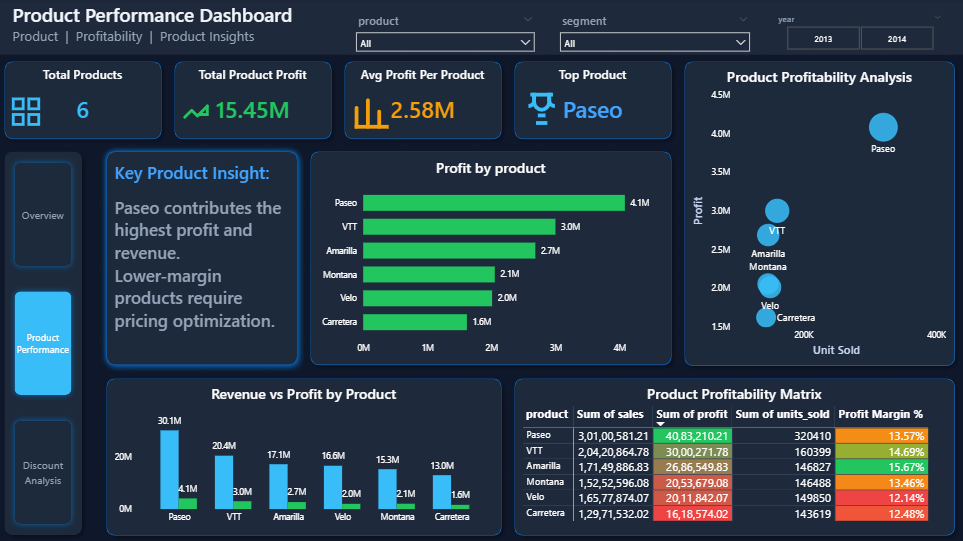

Layout of this report page (visuals, bound fields, positions):
{"tool":"powerbi","page":{"name":"Product Performance","canvas":[1366,768],"ordinal":1},"visuals":[{"type":"shape","box":[960,80,400,448],"z":0},{"type":"shape","box":[0,208,128,560],"z":1000},{"type":"shape","box":[720,528,640,240],"z":2000},{"type":"shape","box":[432,208,528,320],"z":3000},{"type":"shape","box":[144,528,576,240],"z":4000},{"type":"shape","box":[720,80,240,128],"z":5000},{"type":"shape","box":[480,80,240,128],"z":6000},{"type":"shape","box":[240,80,240,128],"z":7000},{"type":"shape","box":[0,80,240,128],"z":8000},{"type":"shape","box":[0,0,1408,80],"z":9000},{"type":"textbox","box":[16,0,448,71],"z":10000},{"type":"pageNavigator","box":[16,224,96,528],"z":11000},{"type":"cardVisual","title":"Total Products","fields":{"Data":["Count(financial_dashboard_view.product)"]},"box":[16,96,208,96],"z":12000},{"type":"cardVisual","title":"Total Product Profit","fields":{"Data":["Sum(financial_dashboard_view.profit)"]},"box":[256,96,208,96],"z":13000},{"type":"cardVisual","title":"Avg Profit Per Product","fields":{"Data":["financial_dashboard_view.Avg Profit Per Product"]},"box":[496,96,208,96],"z":14000},{"type":"clusteredBarChart","title":"Profit by product","fields":{"Category":["financial_dashboard_view.product"],"Y":["financial_dashboard_view.Total Profit"]},"box":[448,224,496,288],"z":15000},{"type":"clusteredColumnChart","title":"Revenue vs Profit by Product","fields":{"Category":["financial_dashboard_view.product"],"Y":["financial_dashboard_view.Total Revenue","financial_dashboard_view.Total Profit"]},"box":[160,544,544,208],"z":16000},{"type":"cardVisual","title":"Top Product","fields":{"Data":["financial_dashboard_view.Top Performing Product"]},"box":[736,96,208,96],"z":17000},{"type":"scatterChart","title":"Product Profitability Analysis","fields":{"X":["Sum(financial_dashboard_view.units_sold)"],"Category":["financial_dashboard_view.product"],"Y":["financial_dashboard_view.Total Profit"],"Size":["financial_dashboard_view.Total Revenue"]},"box":[976,96,368,416],"z":18000},{"type":"pivotTable","title":"Product Profitability Matrix","fields":{"Rows":["financial_dashboard_view.product"],"Values":["Sum(financial_dashboard_view.sales)","Sum(financial_dashboard_view.profit)","Sum(financial_dashboard_view.units_sold)","financial_dashboard_view.Profit Margin %"]},"box":[736,544,608,208],"z":19000},{"type":"slicer","fields":{"Values":["financial_dashboard_view.year"]},"box":[1088,16,256,64],"z":20000},{"type":"slicer","fields":{"Values":["financial_dashboard_view.segment"]},"box":[784,16,288,64],"z":21000},{"type":"slicer","fields":{"Values":["financial_dashboard_view.product"]},"box":[496,16,272,64],"z":22000},{"type":"shape","box":[144,208,288,320],"z":23000},{"type":"textbox","box":[160,224,256,288],"z":24000},{"type":"image","box":[256,128,48,64],"z":25000},{"type":"image","box":[16,128,48,64],"z":26000},{"type":"image","box":[496,128,64,64],"z":27000},{"type":"image","box":[736,128,64,64],"z":28000}]}

Visuals, with their boxes in screenshot pixels (x1, y1, x2, y2), scaled from the page's 1366x768 canvas onto the 963x541 screenshot:
shape: crop(677, 56, 959, 372)
shape: crop(0, 147, 90, 540)
shape: crop(508, 372, 959, 540)
shape: crop(305, 147, 677, 372)
shape: crop(102, 372, 508, 540)
shape: crop(508, 56, 677, 147)
shape: crop(338, 56, 508, 147)
shape: crop(169, 56, 338, 147)
shape: crop(0, 56, 169, 147)
shape: crop(0, 0, 962, 56)
textbox: crop(11, 0, 327, 50)
pageNavigator: crop(11, 158, 79, 530)
"Total Products" cardVisual: crop(11, 68, 158, 135)
"Total Product Profit" cardVisual: crop(180, 68, 327, 135)
"Avg Profit Per Product" cardVisual: crop(350, 68, 496, 135)
"Profit by product" clusteredBarChart: crop(316, 158, 665, 361)
"Revenue vs Profit by Product" clusteredColumnChart: crop(113, 383, 496, 530)
"Top Product" cardVisual: crop(519, 68, 665, 135)
"Product Profitability Analysis" scatterChart: crop(688, 68, 947, 361)
"Product Profitability Matrix" pivotTable: crop(519, 383, 947, 530)
slicer - financial_dashboard_view.year: crop(767, 11, 947, 56)
slicer - financial_dashboard_view.segment: crop(553, 11, 756, 56)
slicer - financial_dashboard_view.product: crop(350, 11, 541, 56)
shape: crop(102, 147, 305, 372)
textbox: crop(113, 158, 293, 361)
image: crop(180, 90, 214, 135)
image: crop(11, 90, 45, 135)
image: crop(350, 90, 395, 135)
image: crop(519, 90, 564, 135)
